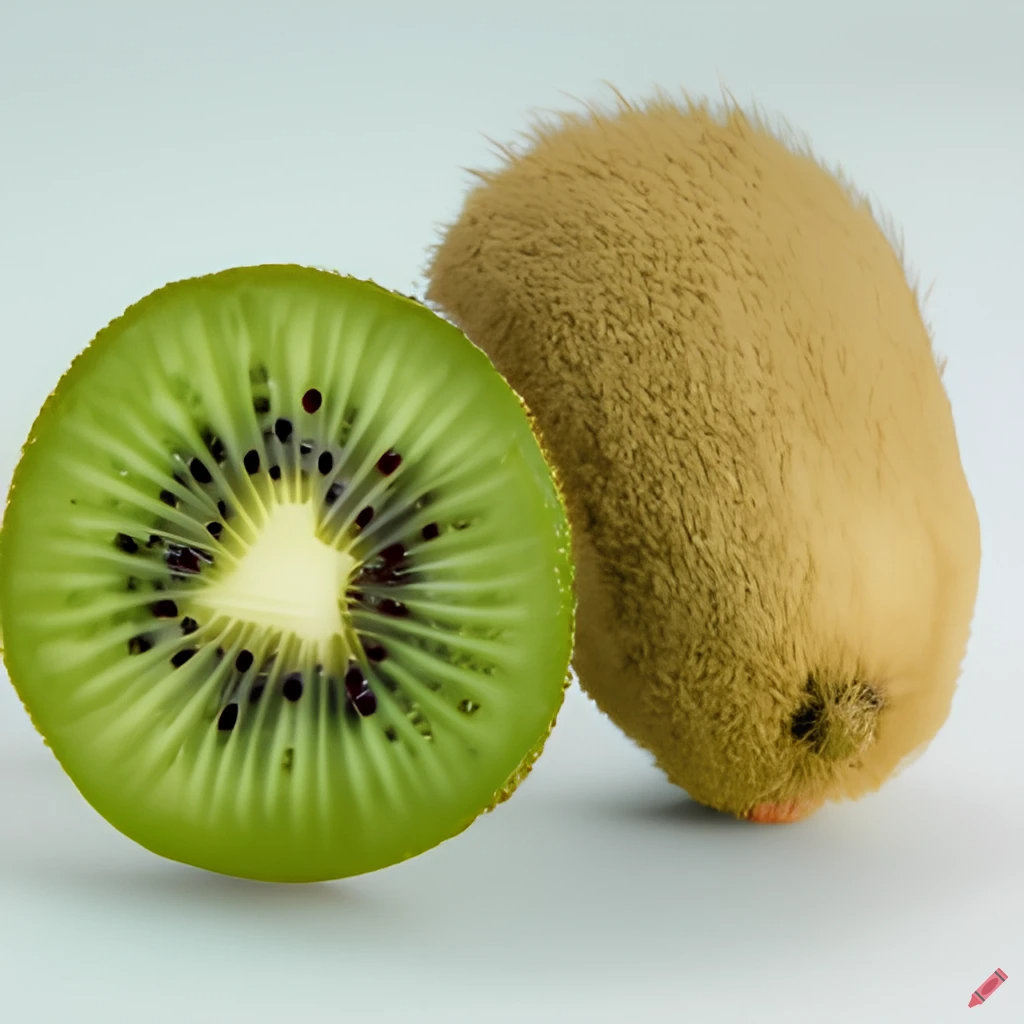Kiwi: (407, 110, 980, 834), (0, 235, 596, 912)
